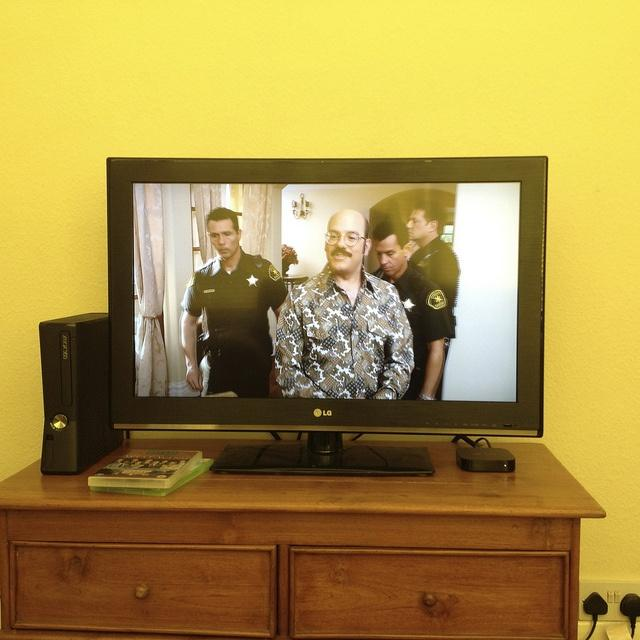AIO PC-Monitor-TV: (106, 155, 549, 474)
